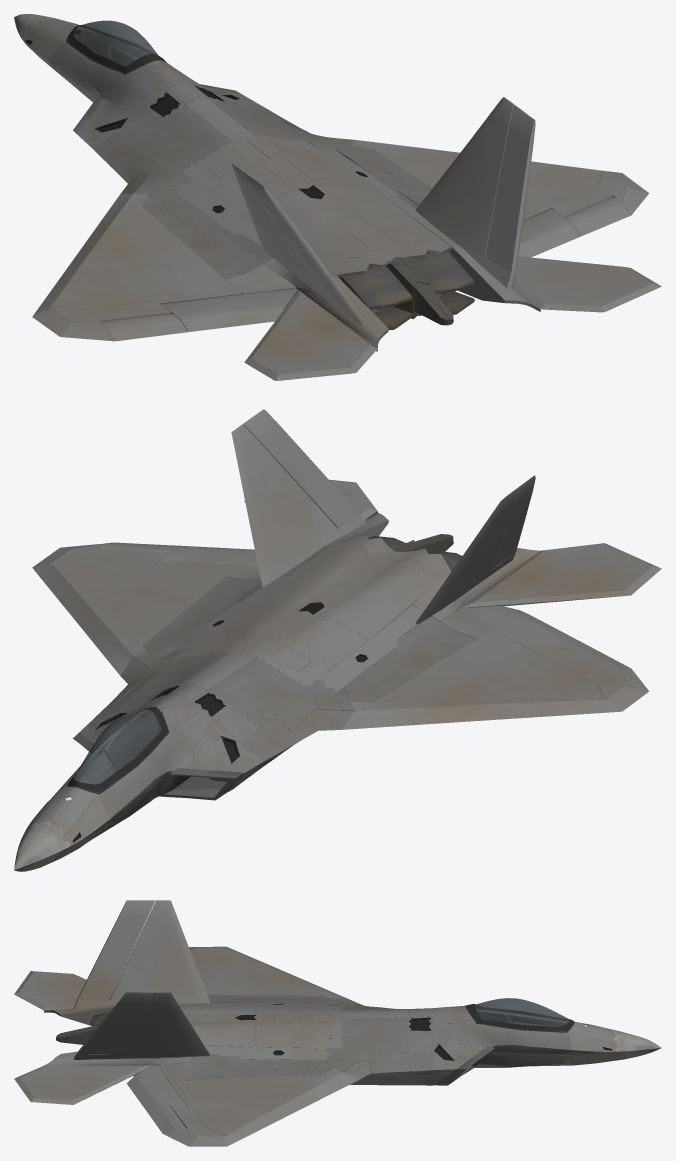
File: angels_zero_f22.glb
3 renders of one model, top to bottom at view 1: azimuth 30°, elevation 25°; view 2: azimuth 150°, elevation 25°; view 3: azimuth 270°, elevation 25°, orthographic. The views are drawn at different scales.
Parts seen in each view (by area): view 1: F22_Object_93, F22_Object_159, F22_Object_111, F22_Object_157, Ctrl_Stabilator_L, Ctrl_Stabilator_R, Ctrl_Rudder_R, F22_Object_101, Ctrl_Flap_L, F22_Object_119, F22_Object_107, Canopy_Glass (+11 smaller); view 2: F22_Object_93, F22_Object_159, F22_Object_111, F22_Object_157, Ctrl_Stabilator_L, Ctrl_Rudder_R, F22_Object_101, Canopy_Glass, F22_Object_163, Ctrl_Flap_L, F22_Object_99, F22_Object_153 (+9 smaller); view 3: F22_Object_93, F22_Object_159, F22_Object_111, F22_Object_157, Ctrl_Stabilator_R, Ctrl_Rudder_L, Ctrl_Stabilator_L, Ctrl_Rudder_R, F22_Object_163, Canopy_Glass, Ctrl_Flap_R, F22_Object_119 (+8 smaller).
Boxes of the visible parts, left/top/right/bottom form: F22_Object_93: left=32, top=98, right=648, bottom=341; F22_Object_159: left=61, top=65, right=432, bottom=279; F22_Object_111: left=231, top=97, right=515, bottom=325; F22_Object_157: left=47, top=33, right=261, bottom=147; Ctrl_Stabilator_L: left=244, top=290, right=376, bottom=380; Ctrl_Stabilator_R: left=513, top=256, right=661, bottom=312; Ctrl_Rudder_R: left=485, top=105, right=535, bottom=274; F22_Object_101: left=51, top=171, right=647, bottom=336; Ctrl_Flap_L: left=161, top=288, right=297, bottom=331; F22_Object_119: left=296, top=246, right=540, bottom=351; F22_Object_107: left=339, top=251, right=474, bottom=329; Canopy_Glass: left=74, top=20, right=158, bottom=66; F22_Object_93: left=32, top=536, right=648, bottom=767; F22_Object_159: left=80, top=577, right=477, bottom=847; F22_Object_111: left=231, top=425, right=515, bottom=624; F22_Object_157: left=52, top=683, right=262, bottom=822; Ctrl_Stabilator_L: left=461, top=543, right=661, bottom=608; Ctrl_Rudder_R: left=242, top=409, right=356, bottom=528; F22_Object_101: left=51, top=543, right=648, bottom=699; Canopy_Glass: left=74, top=710, right=161, bottom=783; F22_Object_163: left=24, top=786, right=110, bottom=866; Ctrl_Flap_L: left=458, top=606, right=580, bottom=656; F22_Object_99: left=226, top=543, right=495, bottom=638; F22_Object_153: left=106, top=715, right=230, bottom=789; F22_Object_93: left=133, top=946, right=408, bottom=1146; F22_Object_159: left=192, top=994, right=571, bottom=1085; F22_Object_111: left=74, top=900, right=209, bottom=1059; F22_Object_157: left=406, top=1005, right=572, bottom=1074; Ctrl_Stabilator_R: left=14, top=1065, right=153, bottom=1104; Ctrl_Rudder_L: left=77, top=900, right=155, bottom=1000; Ctrl_Stabilator_L: left=14, top=971, right=86, bottom=1010; Ctrl_Rudder_R: left=77, top=992, right=155, bottom=1054; F22_Object_163: left=563, top=1021, right=623, bottom=1065; Canopy_Glass: left=474, top=998, right=569, bottom=1026; Ctrl_Flap_R: left=126, top=1065, right=186, bottom=1110; F22_Object_119: left=44, top=1005, right=158, bottom=1072.
Size of the model in its own units: 13.82 by 3.97 by 18.92.
Materials: 17 (14 with a texture image).
